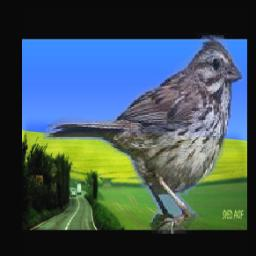Sparrow: (43, 32, 244, 235)
